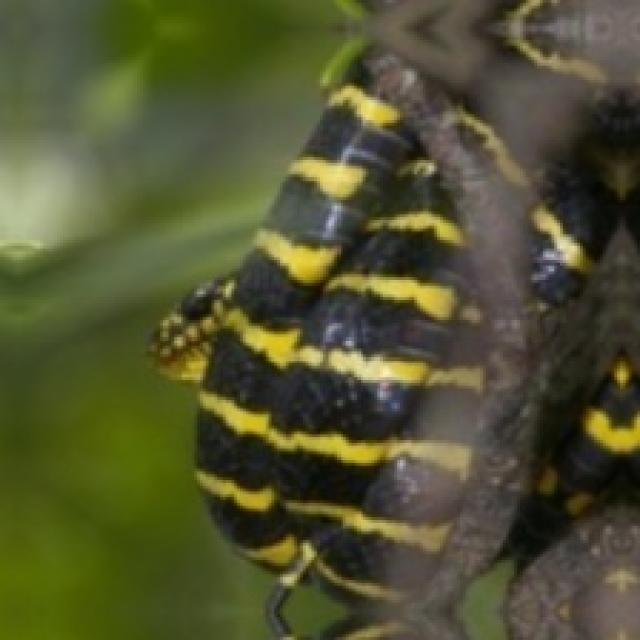mangrove cat snake: (151, 0, 637, 637)
